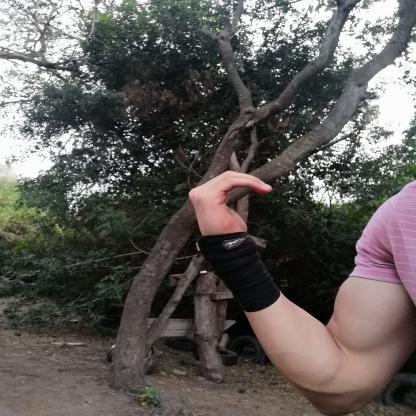HAA: (175, 161, 282, 253)
